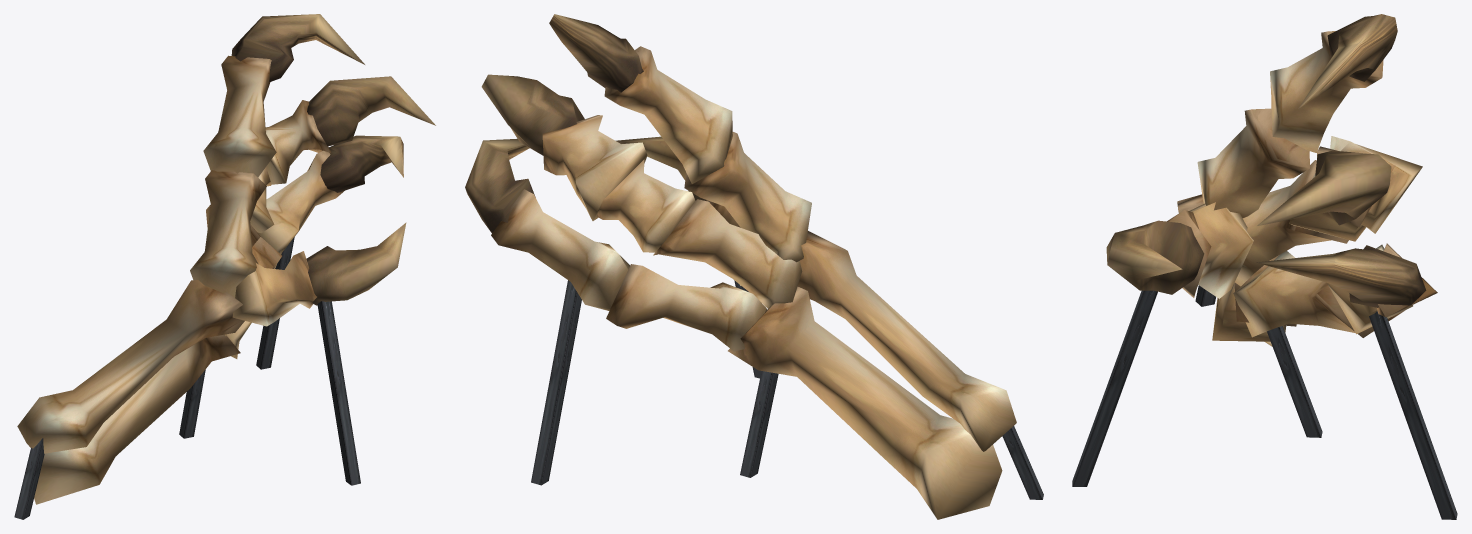
File: gryphonclawexhibit.obj
3 renders of one model, left to right at view 1: azimuth 30°, elevation 25°; view 2: azimuth 150°, elevation 25°; view 3: azimuth 270°, elevation 25°, orthographic. The views are drawn at different scales.
Parts seen in each view (by area): view 1: Geoset1, Geoset0, Geoset2; view 2: Geoset1, Geoset0, Geoset2; view 3: Geoset1, Geoset0, Geoset2.
Part boxes in pixels (bbox=[...]): Geoset1: bbox=[17, 55, 344, 504]; Geoset0: bbox=[231, 14, 435, 305]; Geoset2: bbox=[14, 237, 360, 519]; Geoset1: bbox=[491, 46, 1016, 519]; Geoset0: bbox=[465, 14, 705, 232]; Geoset2: bbox=[531, 280, 1043, 499]; Geoset1: bbox=[1167, 31, 1437, 346]; Geoset0: bbox=[1106, 14, 1426, 307]; Geoset2: bbox=[1072, 285, 1457, 519].
Bounding box in the file's own units: 3.07 × 2.56 × 1.78.
3 materials, 3 textured.
